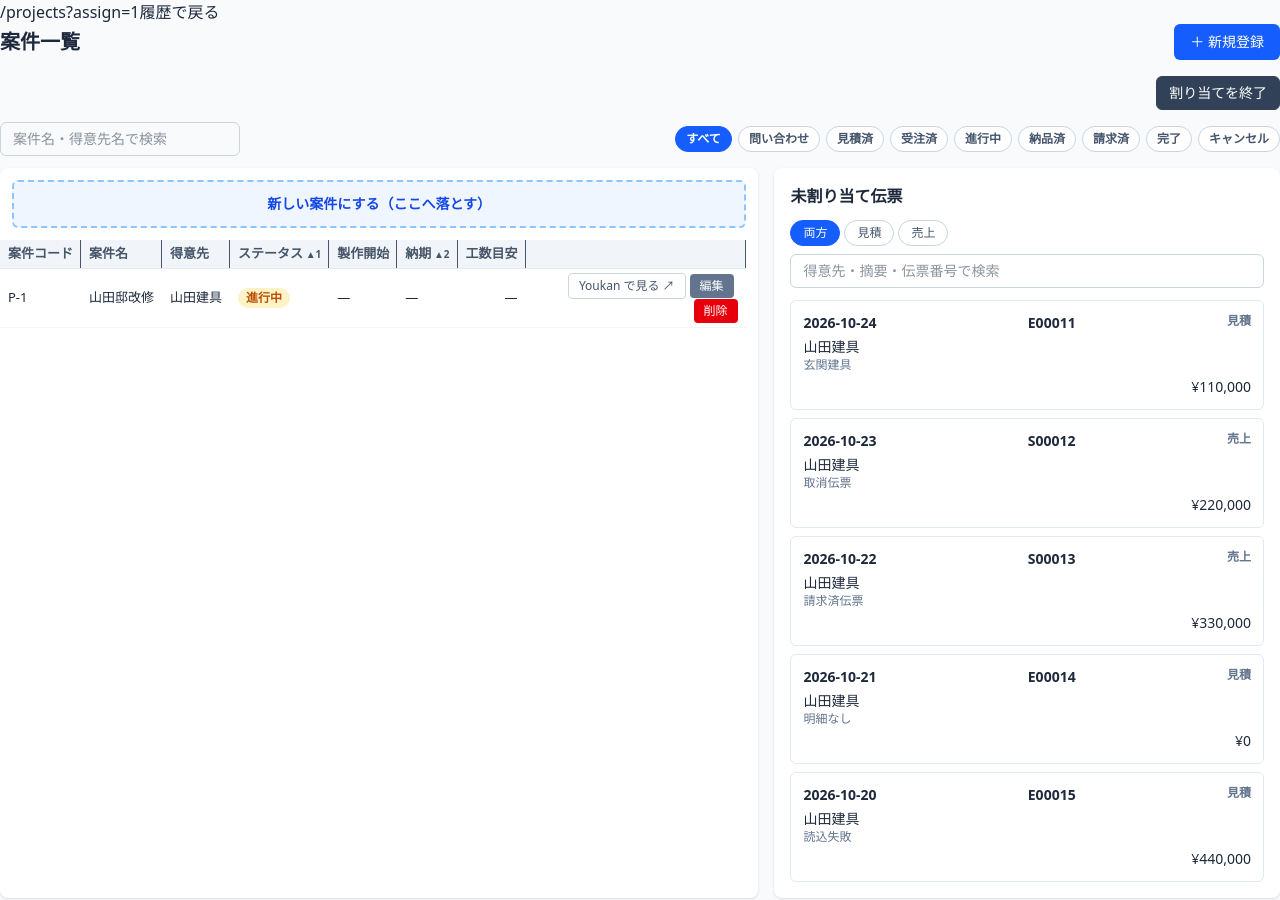
Test case: R-0197 未割り当て伝票の詳細ドロワー › ダブルクリックで右パネル上のドロワーを開き、判断に必要な詳細と左の案件一覧を表示する
Double-click the element with test id "unlinked-voucher-11" at (1027,355), box [790,300,1264,410]
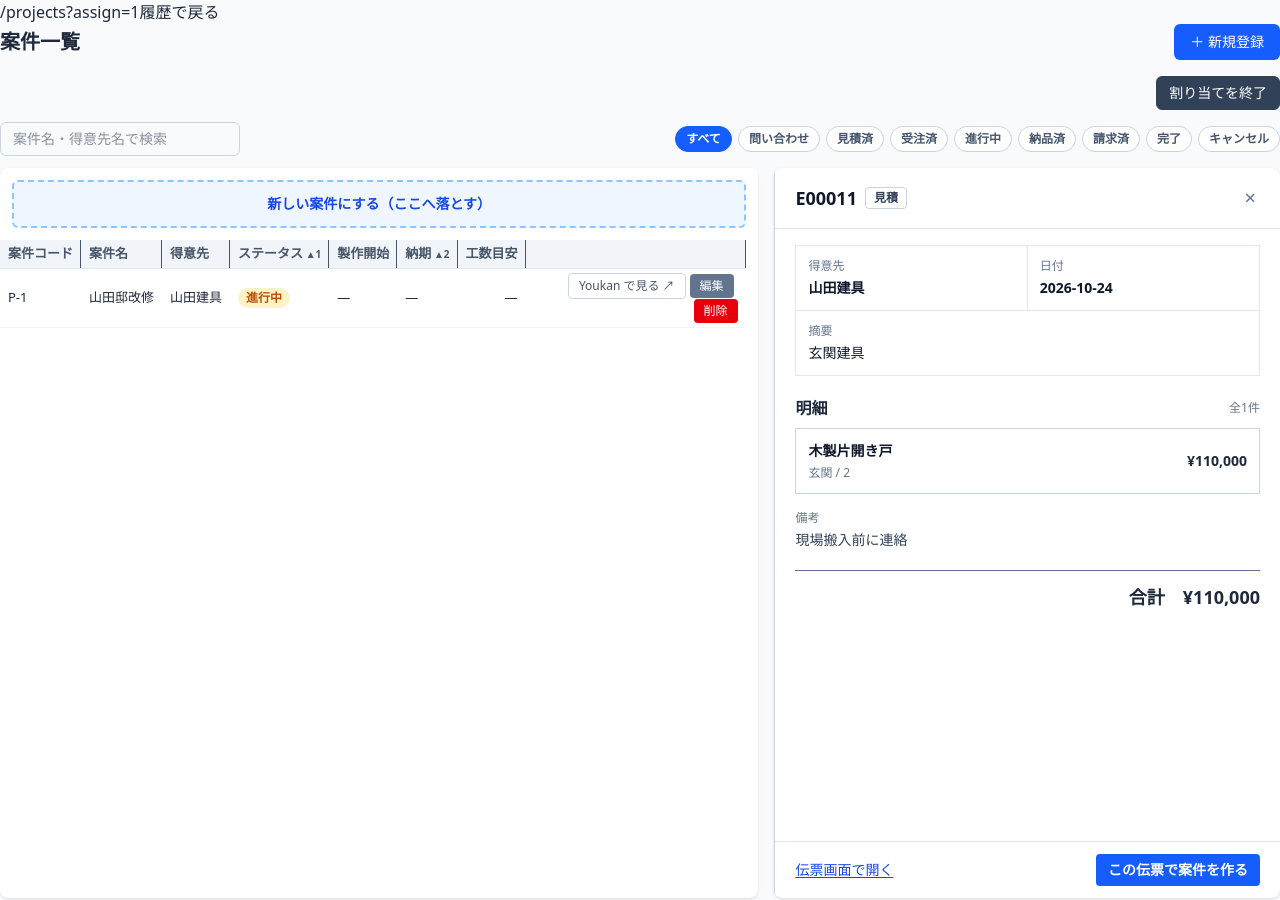
Expected: the heading "E00011" is shown, [795,184,857,212]
Expected: the text "見積" is shown, [865,187,907,209]
Expected: the text "山田建具" is shown, [808,278,864,297]
